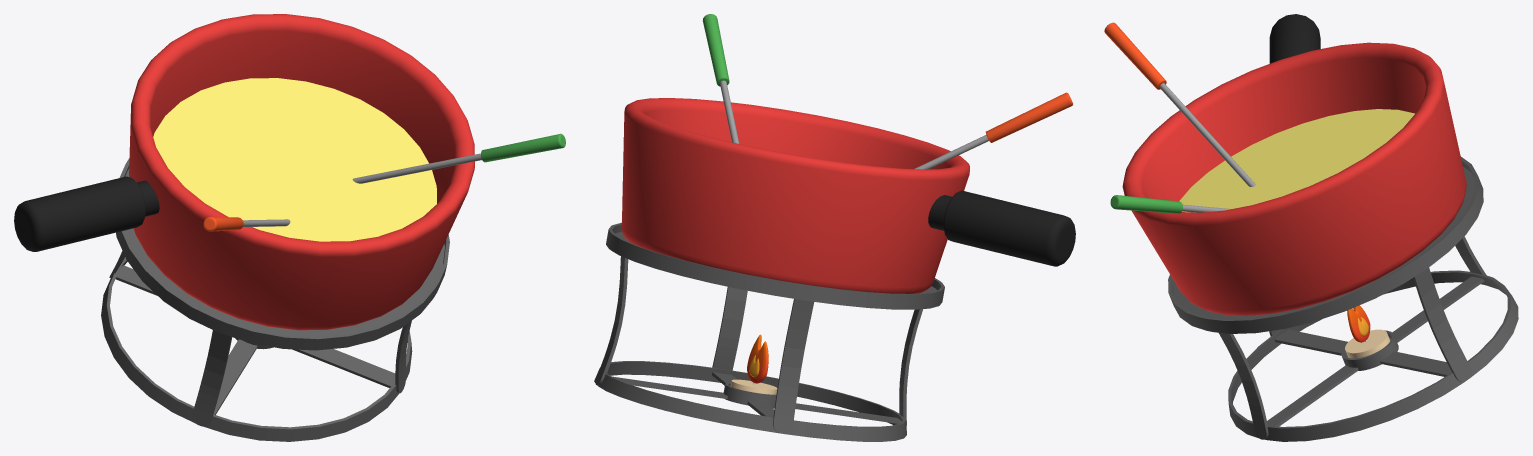
File: fondue.fbx
The picture shows the model from 3 angles, left to right: view 1: azimuth 30°, elevation 25°; view 2: azimuth 150°, elevation 25°; view 3: azimuth 270°, elevation 25°; orthographic projection. The views are drawn at different scales.
Parts seen in each view (by area): view 1: Circle.2219; view 2: Circle.2219; view 3: Circle.2219.
Boxes of the visible parts, x1,y1,x2,y2 form: Circle.2219: [14, 14, 565, 441]; Circle.2219: [594, 14, 1075, 441]; Circle.2219: [1104, 14, 1518, 441].
Size of the model in its own units: 217 by 156 by 177.
Materials: 1 (1 with a texture image).
